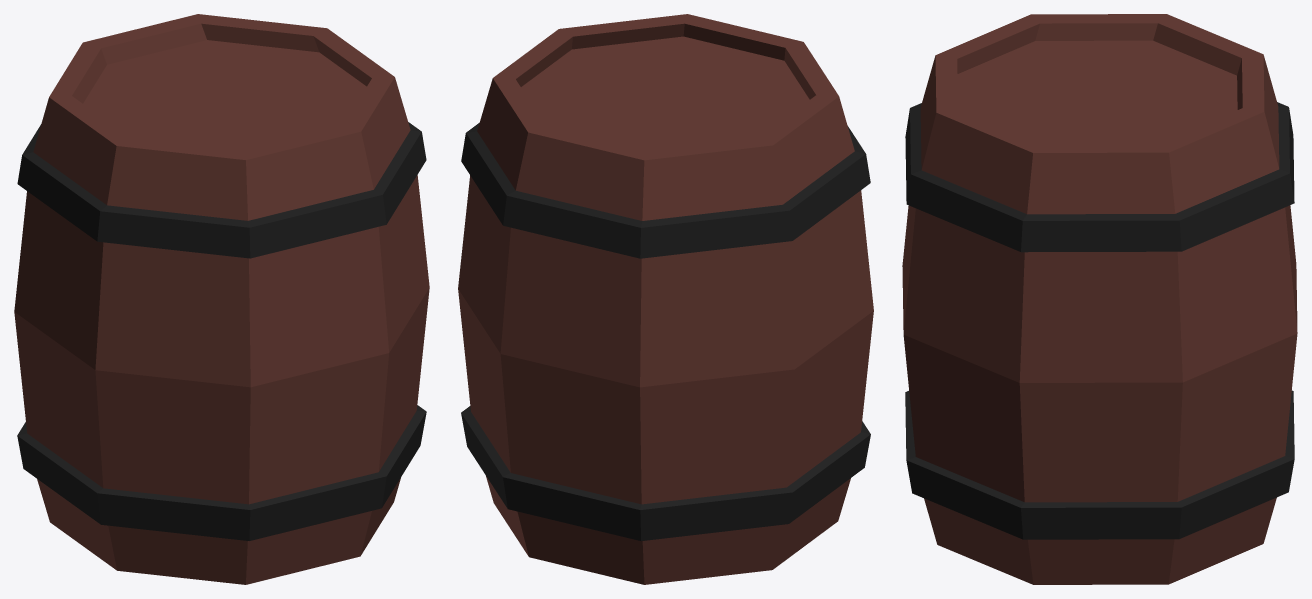
File: barrel_lowpoly_decimate.fbx
3 views of the same model, side by side, from view 1: azimuth 30°, elevation 25°; view 2: azimuth 150°, elevation 25°; view 3: azimuth 270°, elevation 25° (orthographic).
Parts seen in each view (by area): view 1: Cylinder.001; view 2: Cylinder.001; view 3: Cylinder.001.
Part boxes in pixels (x1,y1,x2,y2): Cylinder.001: [14, 14, 429, 584]; Cylinder.001: [458, 14, 873, 584]; Cylinder.001: [902, 14, 1297, 584].
Size of the model in its own units: 24.36 by 29.42 by 24.36.
